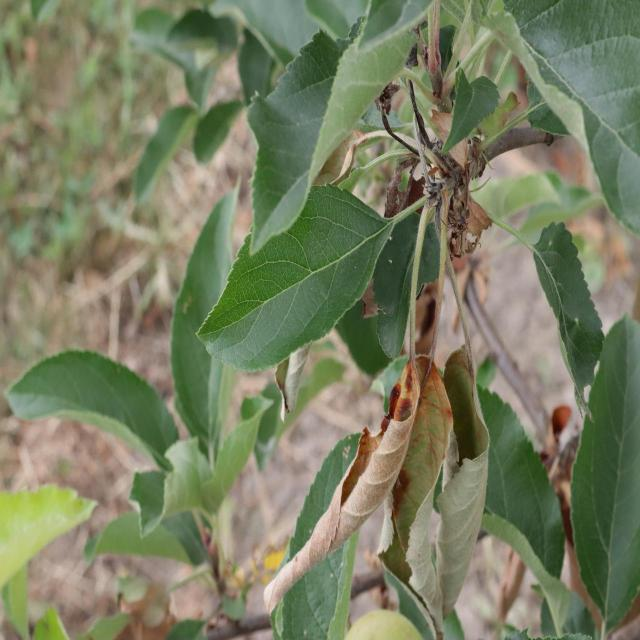-FireBlight-: (261, 308, 497, 613), (426, 107, 483, 259)
